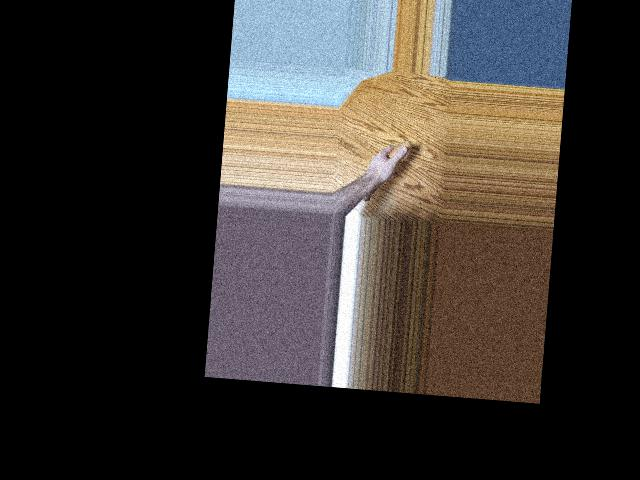sweet_potato: (363, 136, 412, 203)
